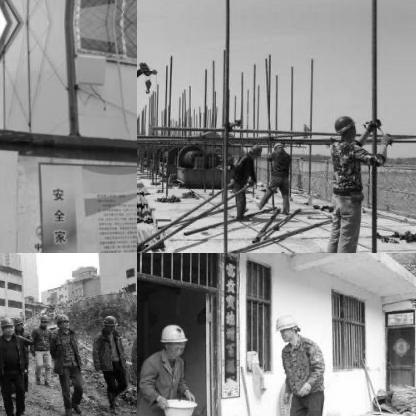Helmet: (156, 318, 187, 360), (273, 308, 301, 342), (330, 112, 355, 140), (54, 310, 72, 330), (102, 310, 118, 332), (0, 312, 13, 335), (247, 140, 261, 158), (12, 312, 24, 332), (36, 312, 50, 328), (271, 140, 283, 150)
